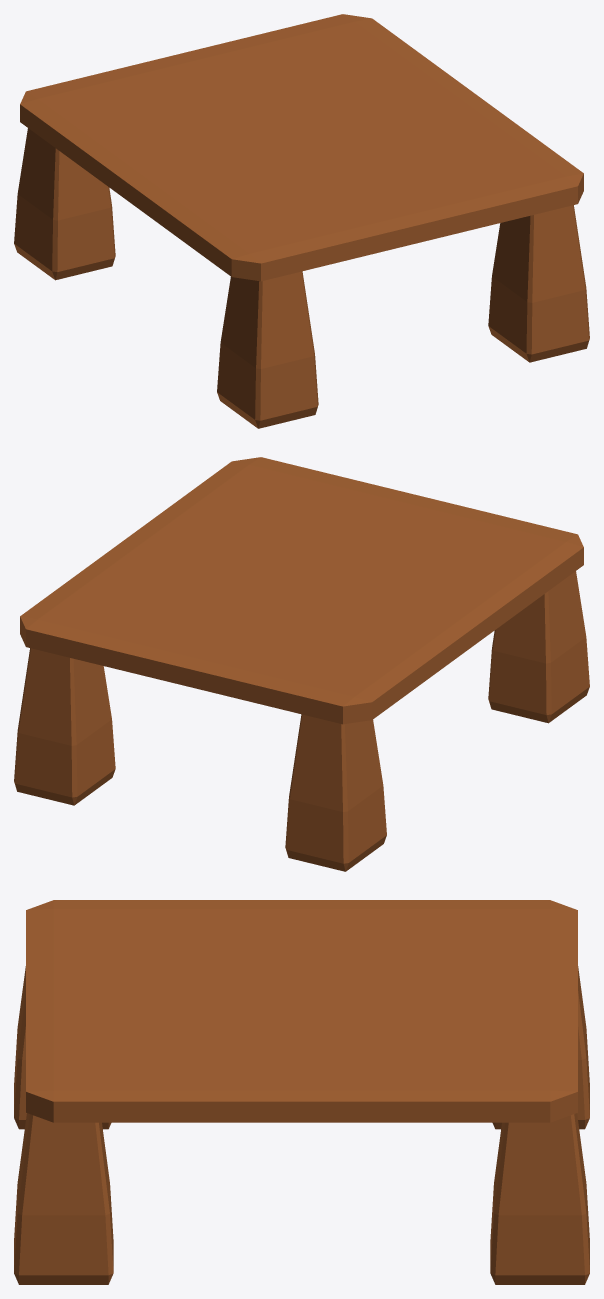
The model's file is Asset_bigTable.fbx.
3 renders of one model, top to bottom at view 1: azimuth 30°, elevation 25°; view 2: azimuth 150°, elevation 25°; view 3: azimuth 270°, elevation 25°, orthographic. The views are drawn at different scales.
Visible parts, largest first — view 1: Cube.051; view 2: Cube.051; view 3: Cube.051.
Part boxes in pixels (x1=…): Cube.051: x1=14, y1=14, x2=589, y2=428; Cube.051: x1=14, y1=457, x2=589, y2=871; Cube.051: x1=14, y1=900, x2=589, y2=1284.
Bounding box in the file's own units: 57.71 × 25.49 × 69.66.
